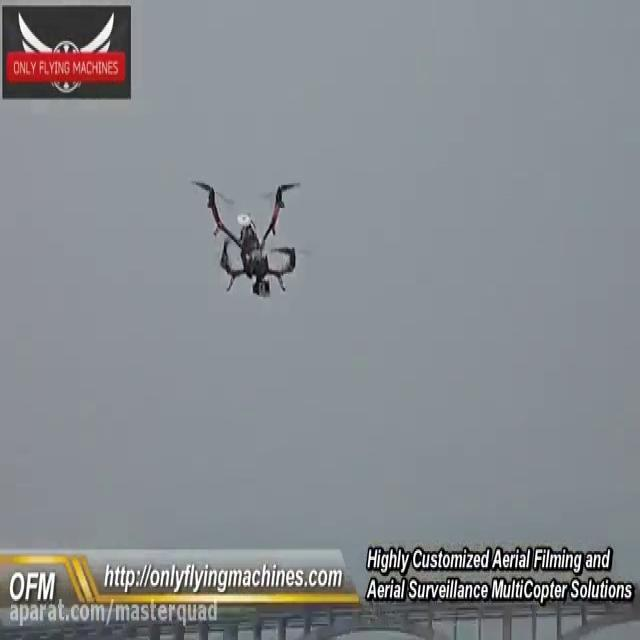drone: (187, 174, 309, 299)
